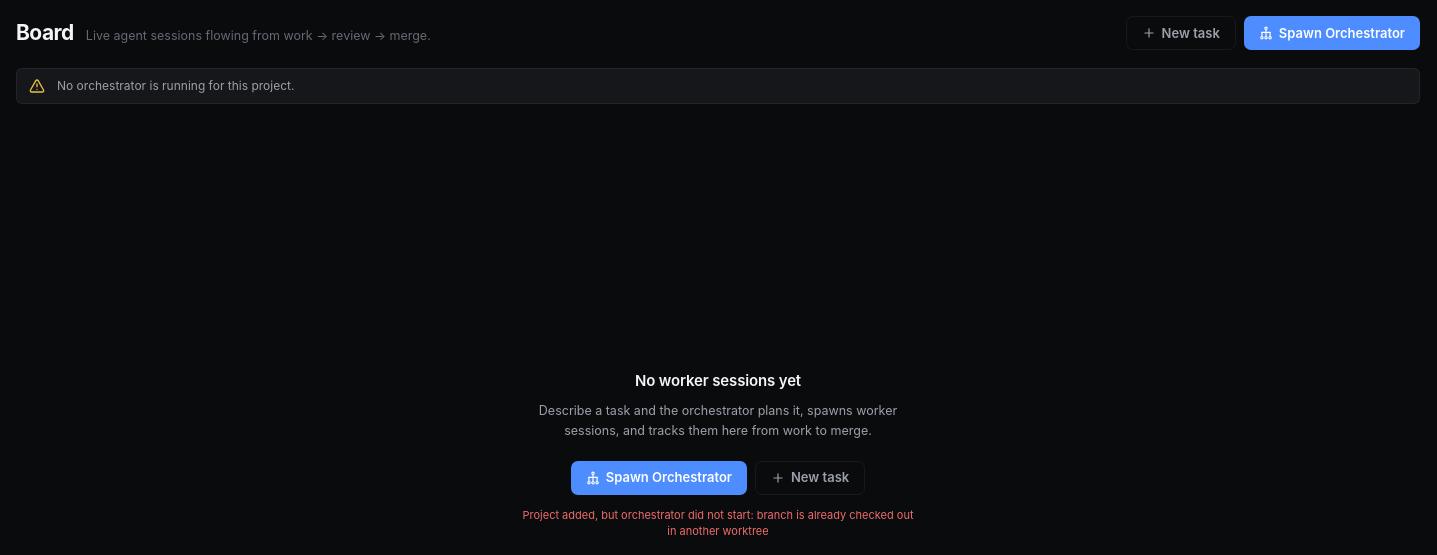
Test: project board with no sessions › clears the project creation startup error when retrying orchestrator spawn
The width and height of the screenshot is (1437, 555).
expect the text "Project added, but orchestrator did not start" is shown: met, box [522, 508, 914, 538]
Click the button "Spawn Orchestrator" in the row of "Board" at (1332, 33), box [1244, 16, 1420, 50]
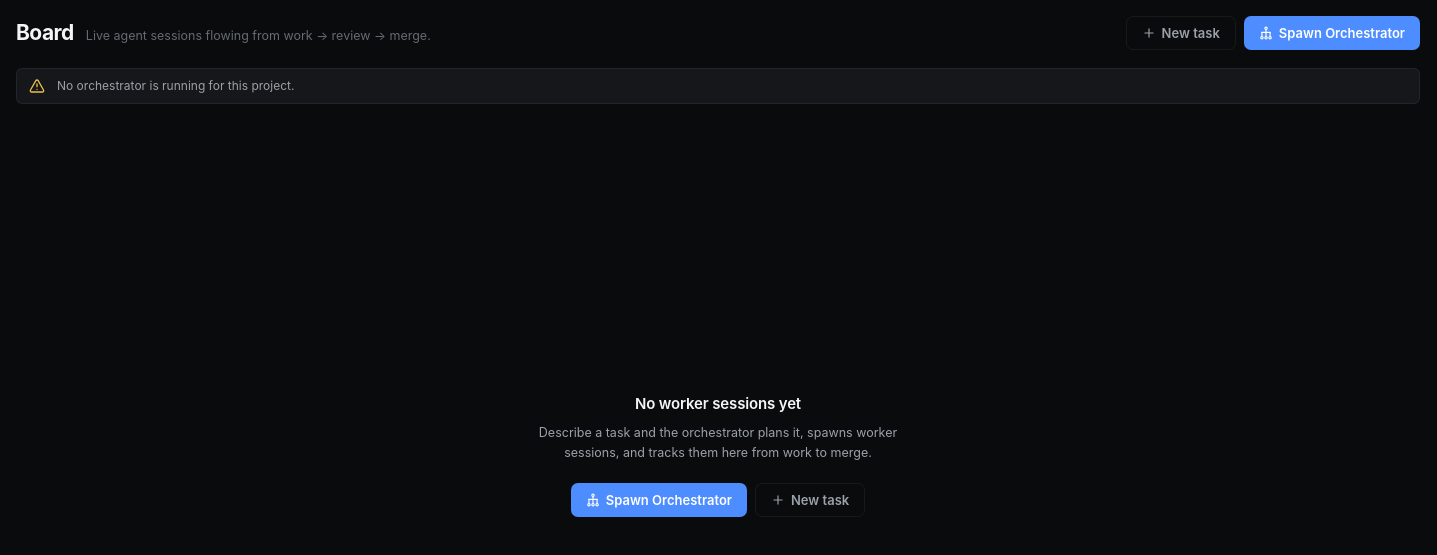
expect the text "Project added, but orchestrator did not start" is gone: met
